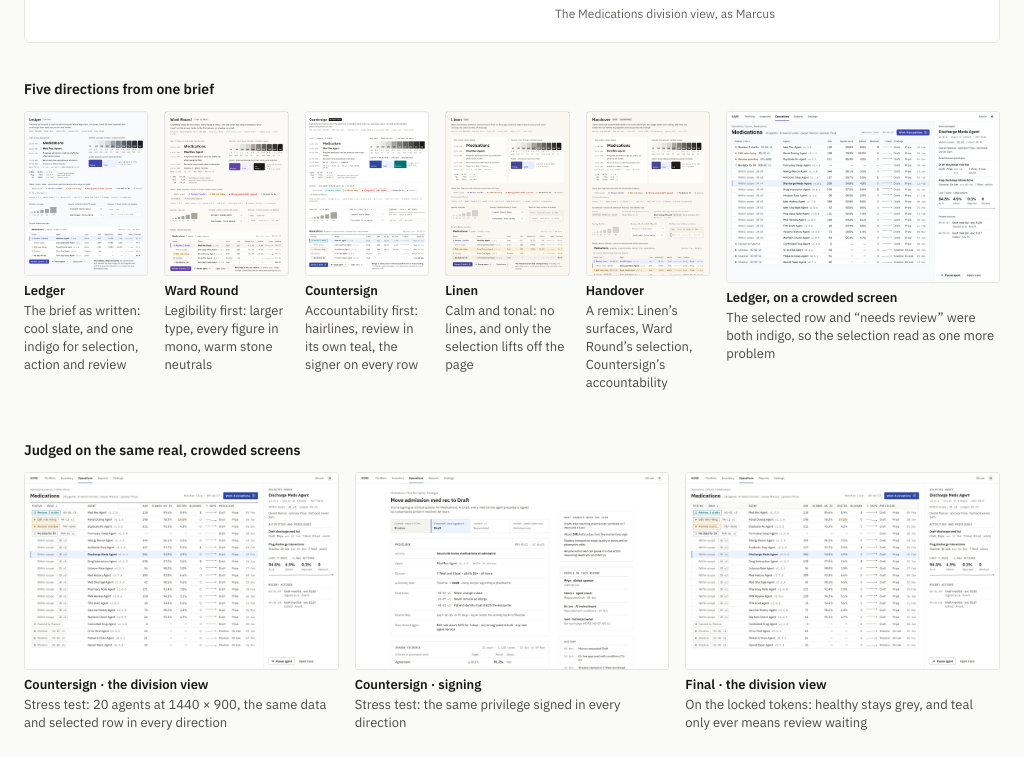
Test: page copy › an image opens larger in a dialog, and closes
(page scrolled)
Click the button named "Ledger’s overview sheet: type scale, cool slate neutrals, on": [86, 194] box [24,111,148,276]
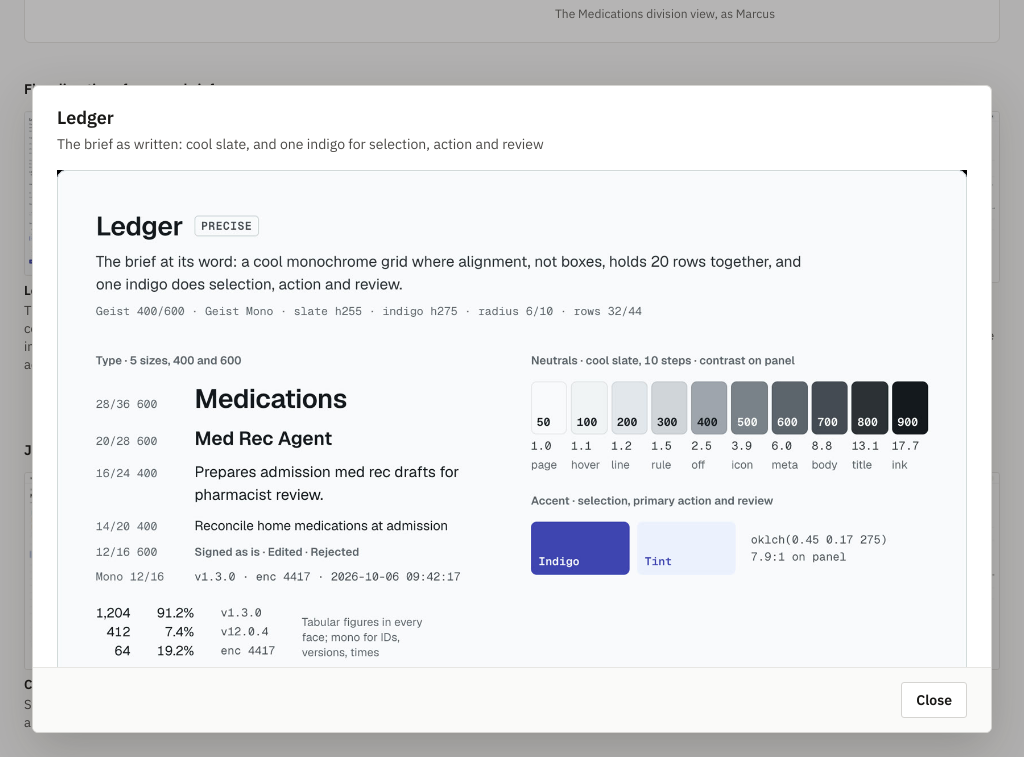
Click the button "Close": [934, 700] box [901,682,967,718]
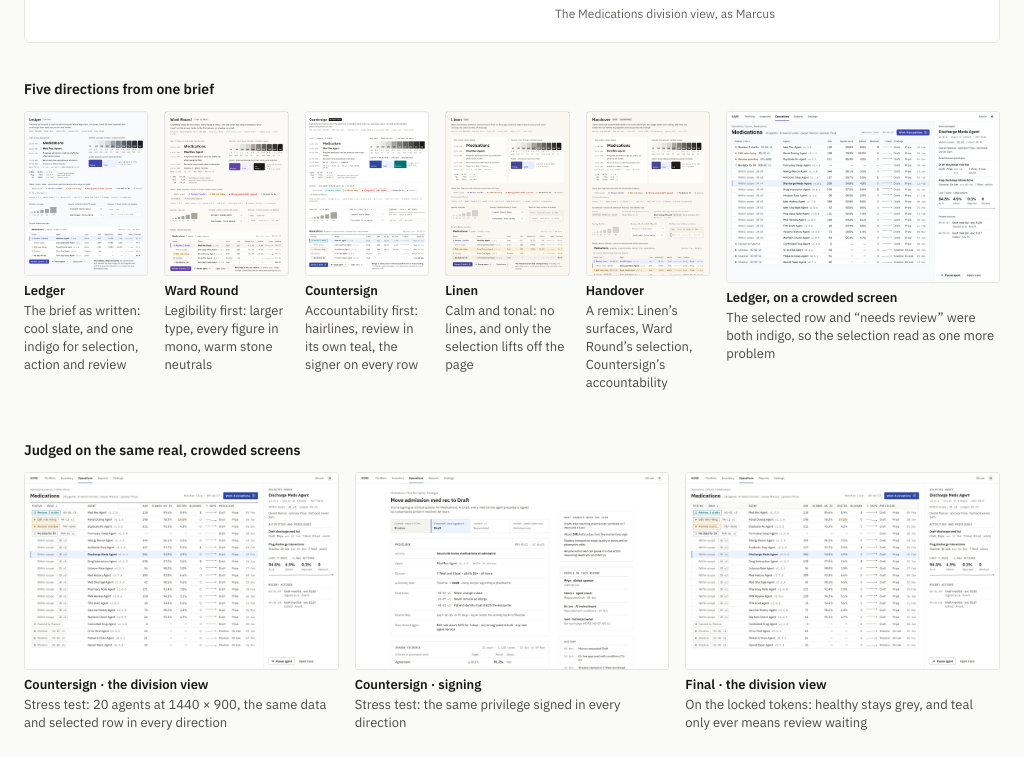
Expected: the dialog is gone
